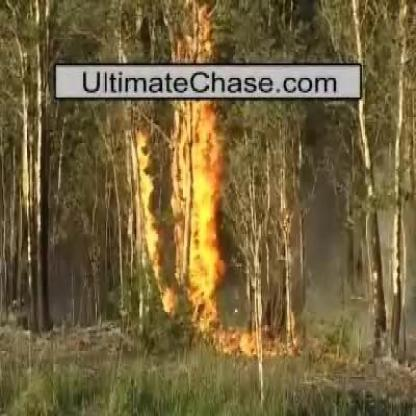foggia-v2-map80-epoch100 - v1 4323: (174, 102, 217, 302)
